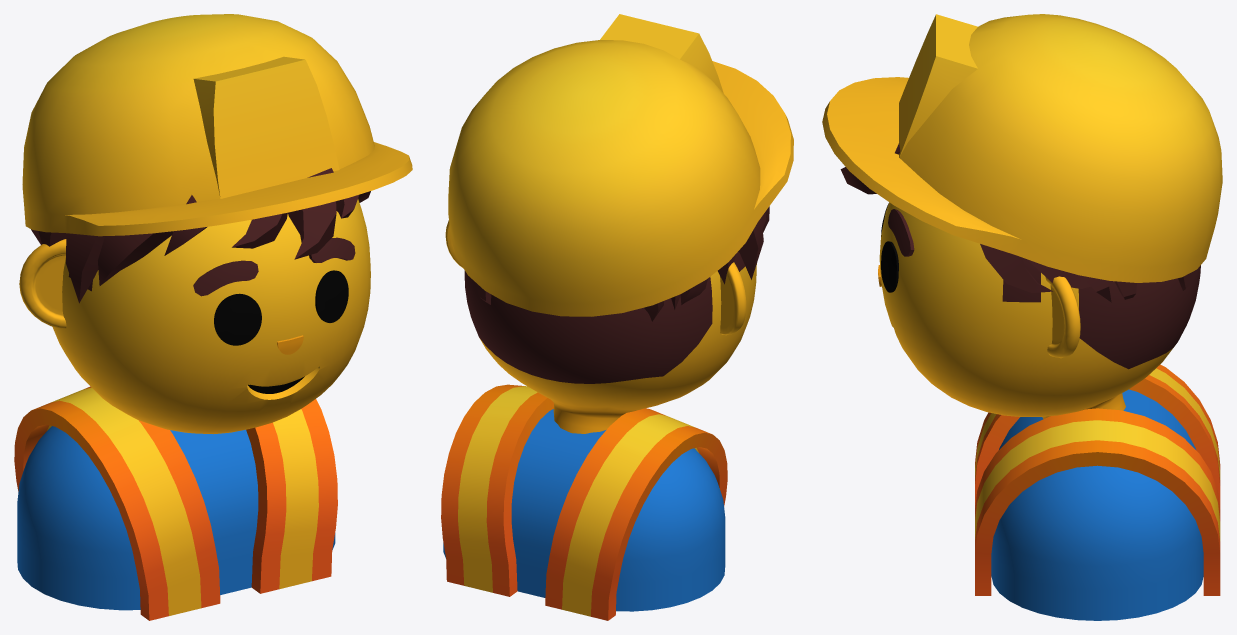
Rendered from construction_worker.glb.
3 views of the same model, side by side, from view 1: azimuth 30°, elevation 25°; view 2: azimuth 150°, elevation 25°; view 3: azimuth 270°, elevation 25° (orthographic). The views are drawn at different scales.
Visible parts, largest first — view 1: Sphere.128, Roundcube.157, Sphere.158, Sphere.129, Cube.1999, Circle.820, Cylinder.130, Circle.822; view 2: Sphere.128, Sphere.158, Roundcube.157, Sphere.129, Cube.1999, Cylinder.130; view 3: Sphere.128, Roundcube.157, Sphere.129, Sphere.158, Cube.1999, Cylinder.130, Circle.820, Circle.822.
Boxes of the visible parts, left/top/right/bottom form: Sphere.128: left=22, top=14, right=412, bottom=236; Roundcube.157: left=52, top=199, right=370, bottom=434; Sphere.158: left=14, top=386, right=337, bottom=620; Sphere.129: left=17, top=426, right=335, bottom=610; Cube.1999: left=31, top=168, right=370, bottom=303; Circle.820: left=214, top=270, right=348, bottom=345; Cylinder.130: left=19, top=239, right=66, bottom=328; Circle.822: left=193, top=237, right=355, bottom=296; Sphere.128: left=448, top=14, right=793, bottom=316; Sphere.158: left=441, top=384, right=727, bottom=620; Roundcube.157: left=464, top=252, right=756, bottom=433; Sphere.129: left=443, top=409, right=725, bottom=611; Cube.1999: left=475, top=206, right=769, bottom=321; Cylinder.130: left=445, top=220, right=746, bottom=335; Sphere.128: left=822, top=14, right=1222, bottom=282; Roundcube.157: left=879, top=202, right=1200, bottom=418; Sphere.129: left=991, top=389, right=1203, bottom=620; Sphere.158: left=975, top=364, right=1220, bottom=595; Cube.1999: left=840, top=143, right=1194, bottom=302; Cylinder.130: left=1045, top=276, right=1080, bottom=358; Circle.820: left=881, top=203, right=898, bottom=292; Circle.822: left=888, top=209, right=914, bottom=256.
Size of the model in its own units: 1.58 by 2.43 by 1.7.
Materials: 2 (2 with a texture image).
